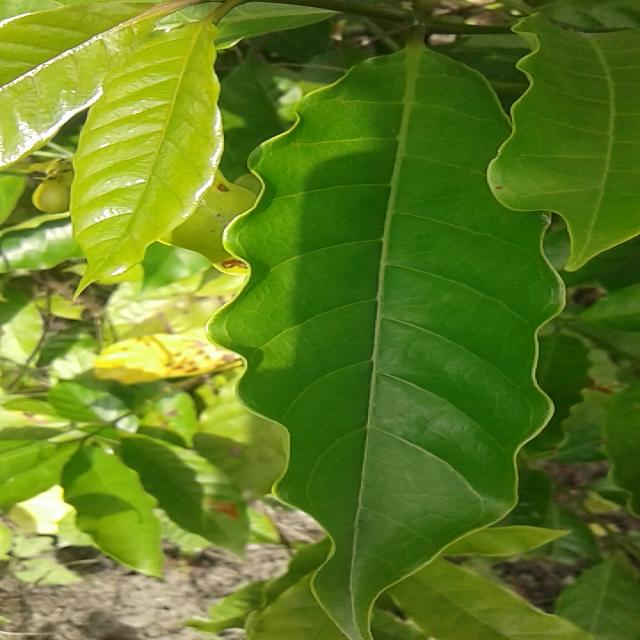Sanas: (211, 48, 585, 640)
